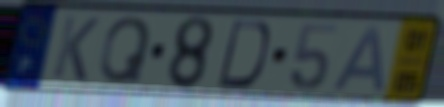5: (288, 20, 340, 93)
8: (166, 13, 216, 91)
A: (328, 24, 388, 94)
D: (213, 18, 273, 91)
K: (49, 12, 103, 84)
Q: (96, 15, 155, 87)
